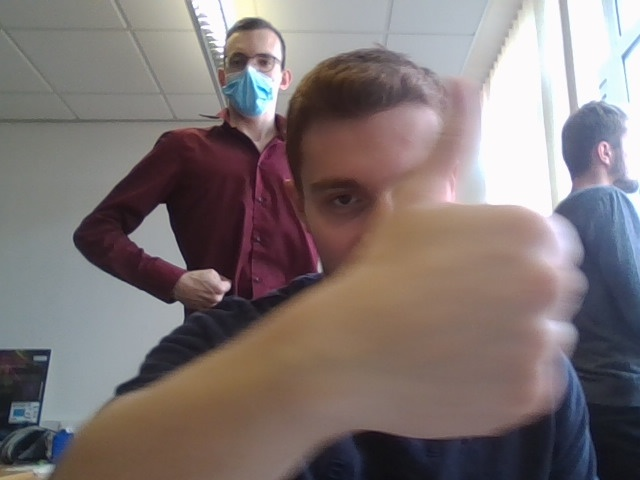thumbsup: (343, 69, 586, 445)
